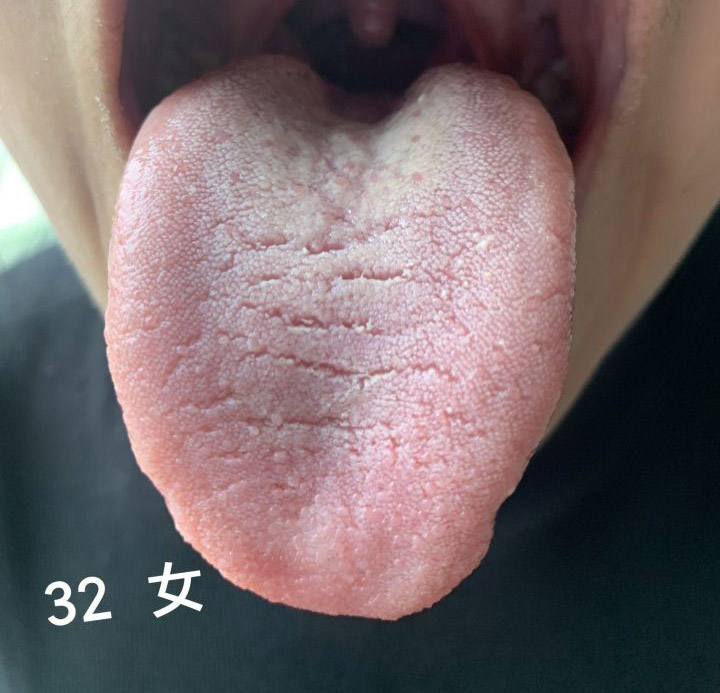baitaishe: (103, 55, 577, 620)
liewenshe: (220, 221, 460, 499)
shenquao: (257, 56, 482, 146)
